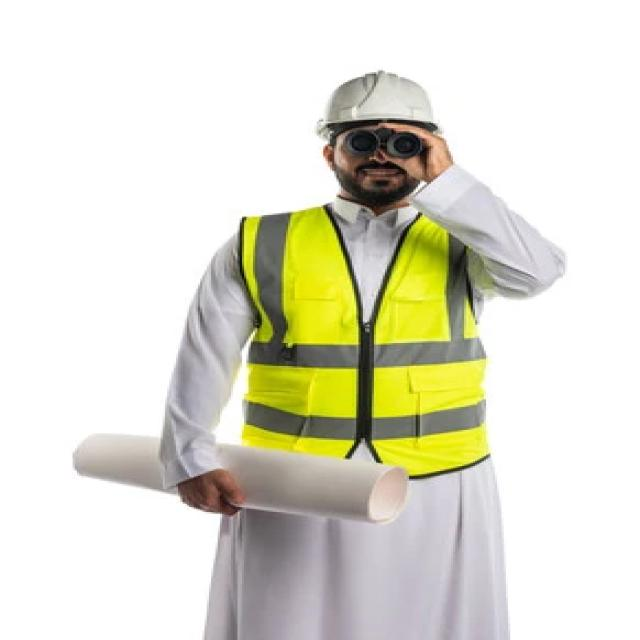helmet: (304, 71, 446, 130)
vest: (232, 202, 497, 480)
